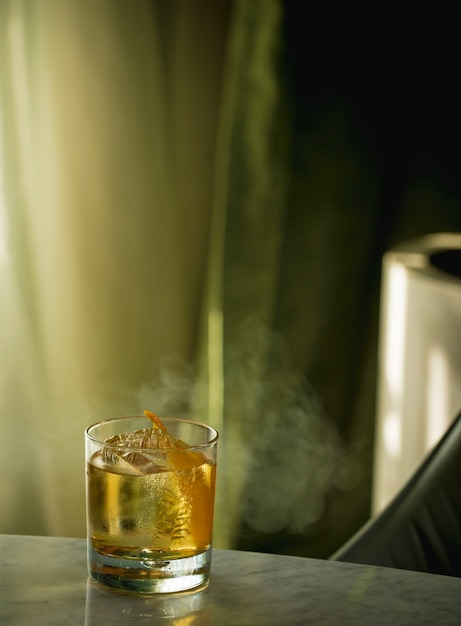alcohol: (81, 411, 220, 594)
